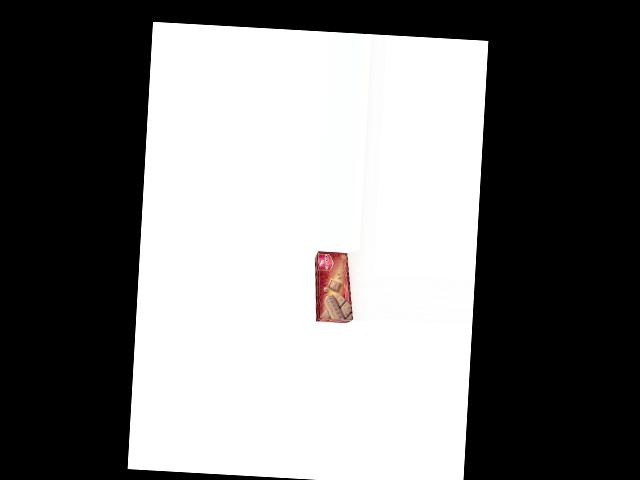chocolate: (310, 250, 357, 322)
